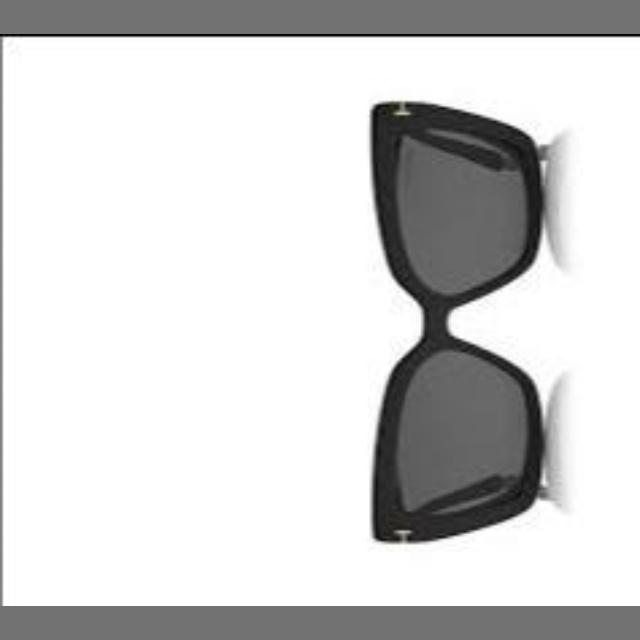Sunglasses: (322, 80, 594, 552)
